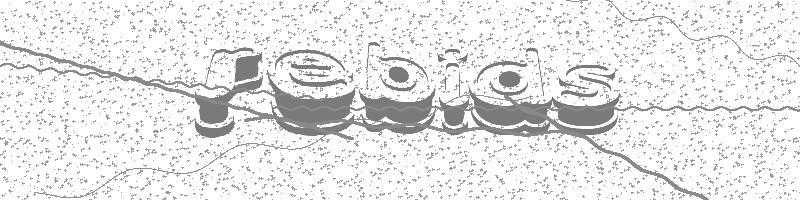b: (361, 36, 438, 138)
d: (472, 46, 553, 136)
e: (268, 49, 358, 136)
i: (438, 46, 471, 136)
r: (193, 39, 266, 137)
s: (548, 61, 623, 137)
